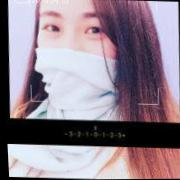WRONG: (34, 1, 123, 101)
